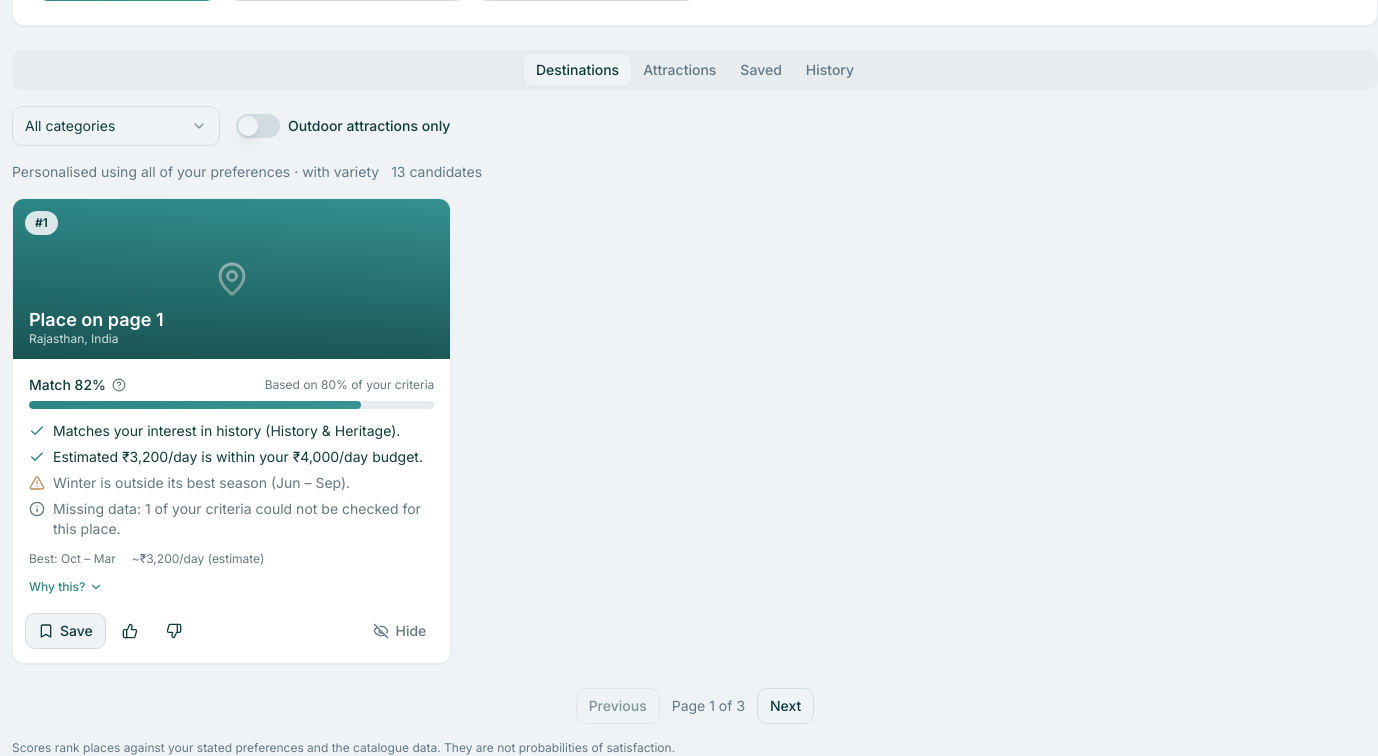
Test: Recommendations page › pages through recommendations using the server total
The width and height of the screenshot is (1378, 756).
(page scrolled)
Expected: the heading "Place on page 1" is shown, [29,308,164,330]
Expected: the text "Page 1 of 3" is shown, [672,696,745,716]
Click the button "Next". click: [786, 706]
box: [757,688,814,724]
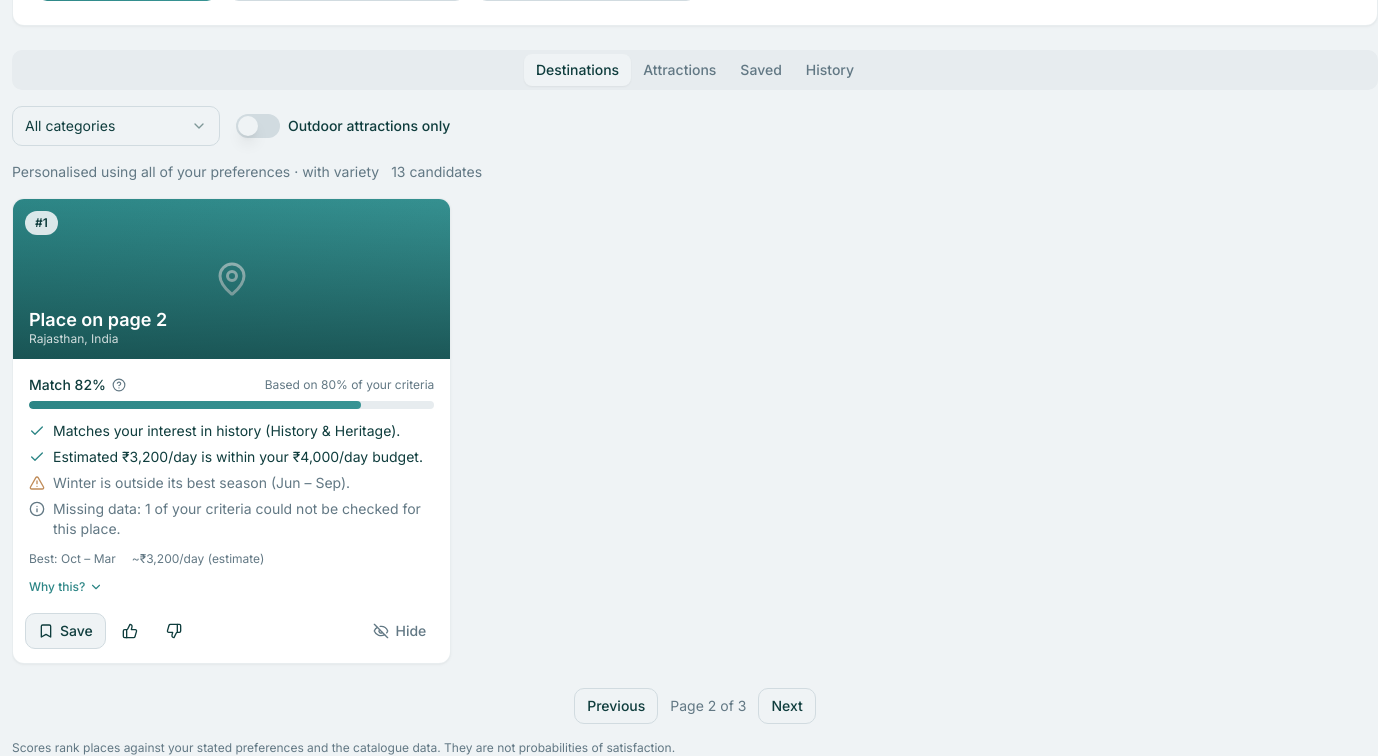
Expected: the heading "Place on page 2" is shown, [29,308,167,330]
